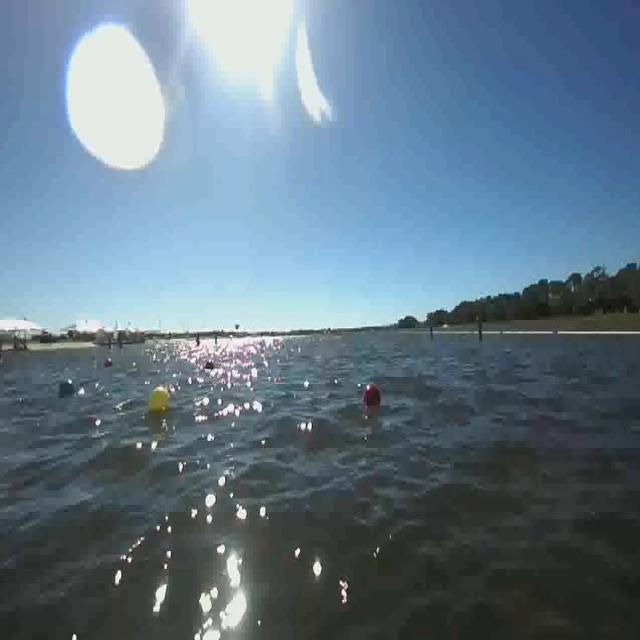red-buoy: (364, 385, 379, 406)
yellow-buoy: (148, 385, 172, 417)
